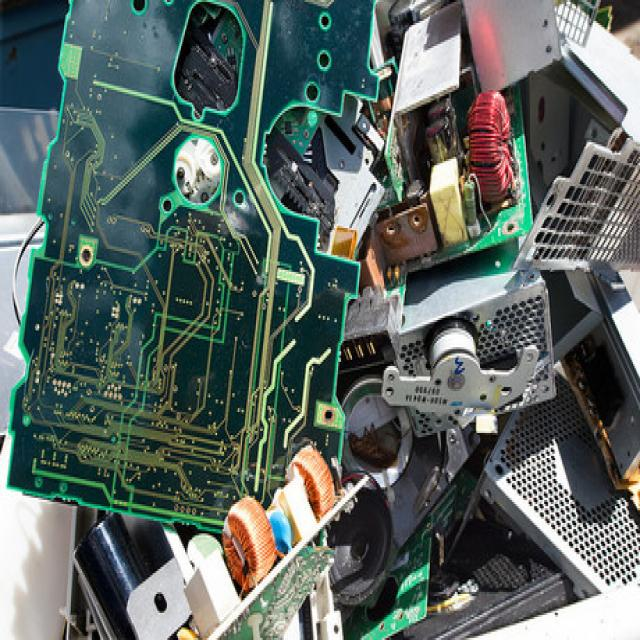hazard: (31, 0, 640, 640)
